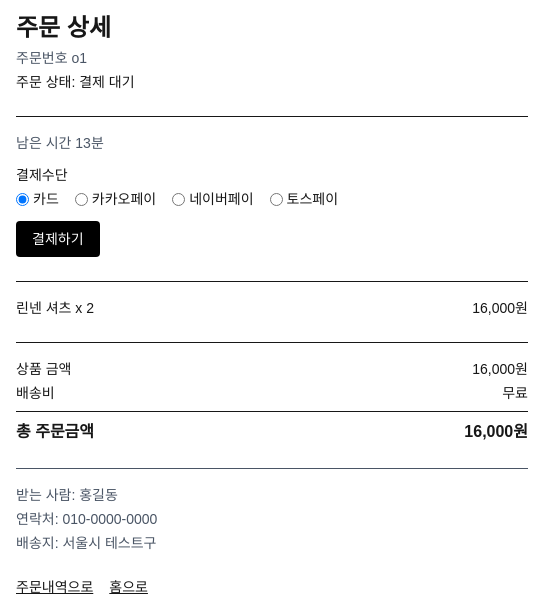
Scenario: 결제하기 동작 › 성공: 주문 id·서버 금액·고른 결제수단으로 결제창을 열고, 성공하면 확정 요청 뒤 다시 불러온다
Click the radio button labelled "카카오페이" at (81, 199), box [75, 192, 88, 206]
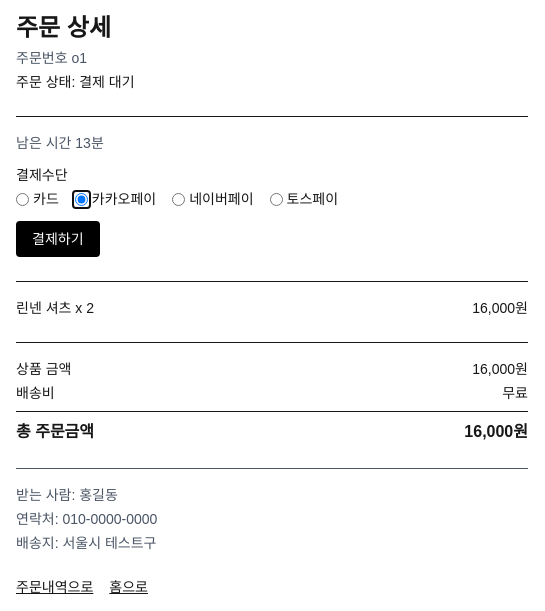
Click the button "결제하기" at (58, 239), box [16, 221, 100, 257]
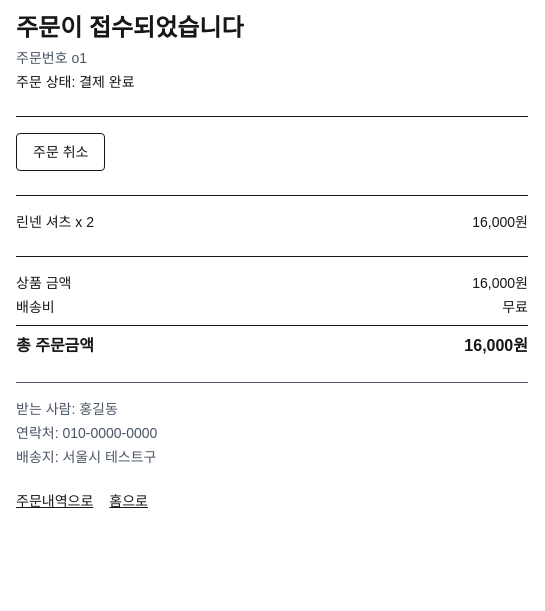
expect the text "주문 상태: 결제 완료" is shown: met, box [16, 74, 135, 90]
